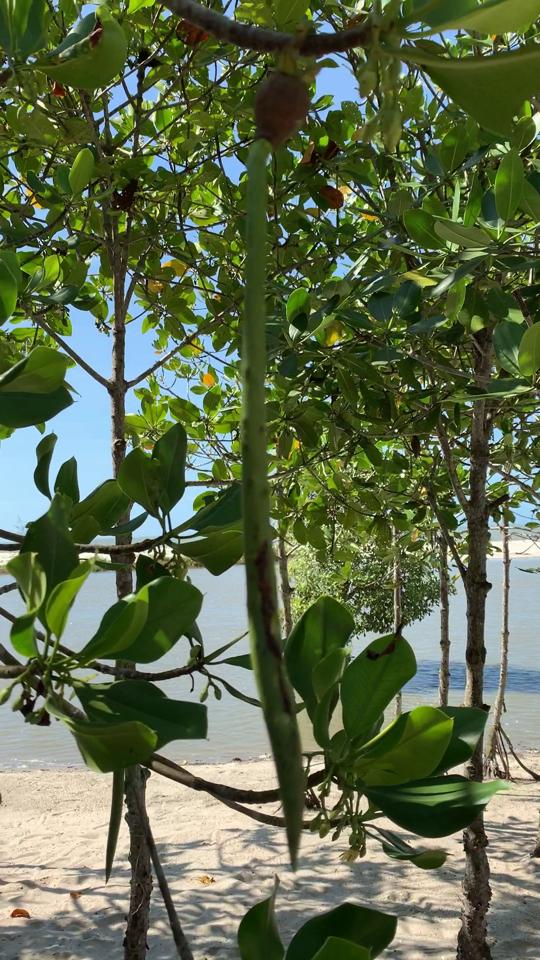setengah matang: (223, 47, 337, 878)
